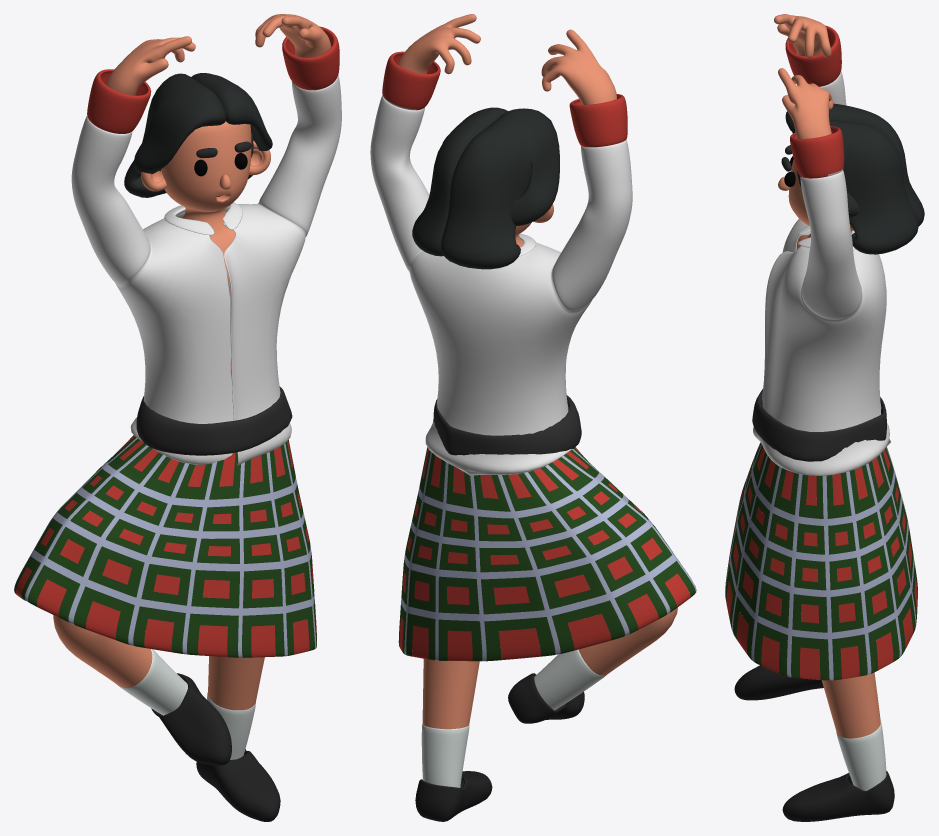
The model's file is ceilidh-dance-3d-icon-1374037790702.glb.
3 views of the same model, side by side, from view 1: azimuth 30°, elevation 25°; view 2: azimuth 150°, elevation 25°; view 3: azimuth 270°, elevation 25° (orthographic). The views are drawn at different scales.
Visible parts, largest first — view 1: Shirt 1, Skirt 2, Body, Skirt 1, Skirt 3, Hair, Shoes, Belt, Shirt 2, Socks; view 2: Shirt 1, Skirt 2, Hair, Skirt 1, Skirt 3, Body, Socks, Shirt 2, Shoes, Belt; view 3: Shirt 1, Skirt 2, Skirt 1, Hair, Skirt 3, Body, Shoes, Shirt 2, Belt, Socks.
Part boxes in pixels (left/top/right/bottom): Shirt 1: left=71, top=75, right=341, bottom=465; Skirt 2: left=14, top=435, right=316, bottom=657; Body: left=53, top=14, right=331, bottom=710; Skirt 1: left=14, top=437, right=316, bottom=657; Skirt 3: left=16, top=435, right=316, bottom=657; Hair: left=124, top=73, right=272, bottom=197; Shoes: left=151, top=673, right=280, bottom=821; Belt: left=136, top=386, right=292, bottom=455; Shirt 2: left=87, top=26, right=339, bottom=133; Socks: left=117, top=649, right=255, bottom=759; Shirt 1: left=370, top=95, right=632, bottom=475; Skirt 2: left=398, top=447, right=695, bottom=661; Hair: left=412, top=107, right=559, bottom=269; Skirt 1: left=401, top=449, right=696, bottom=661; Skirt 3: left=399, top=447, right=690, bottom=661; Body: left=397, top=14, right=677, bottom=729; Socks: left=421, top=649, right=606, bottom=787; Shirt 2: left=382, top=51, right=627, bottom=147; Shoes: left=415, top=673, right=584, bottom=821; Belt: left=433, top=395, right=581, bottom=455; Shirt 1: left=753, top=70, right=890, bottom=475; Skirt 2: left=725, top=443, right=917, bottom=680; Skirt 1: left=725, top=444, right=916, bottom=680; Hair: left=785, top=103, right=924, bottom=254; Skirt 3: left=726, top=442, right=917, bottom=679; Body: left=774, top=14, right=880, bottom=738; Shoes: left=734, top=665, right=894, bottom=821; Shirt 2: left=785, top=25, right=844, bottom=178; Belt: left=752, top=389, right=886, bottom=461; Socks: left=801, top=613, right=886, bottom=790.
Bounding box in the file's own units: 0.8352 × 1.99 × 0.4726.
